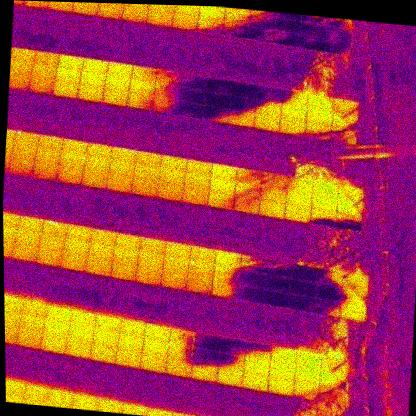Diode: (41, 220, 68, 239)
Hotspot: (7, 156, 35, 176), (56, 165, 84, 185), (163, 256, 190, 275), (59, 151, 87, 169), (189, 260, 215, 279), (62, 137, 89, 155), (13, 130, 40, 147), (37, 134, 64, 150), (111, 147, 138, 163), (10, 60, 33, 77), (4, 296, 24, 315)
Normal: (294, 365, 322, 386), (105, 172, 134, 192), (132, 176, 158, 198), (158, 180, 184, 202), (17, 328, 44, 349), (32, 161, 60, 181), (81, 168, 109, 188), (216, 368, 244, 388), (242, 372, 270, 392), (190, 364, 219, 383), (148, 6, 174, 27), (173, 9, 199, 30), (272, 345, 298, 366), (296, 350, 322, 371), (66, 338, 92, 359), (92, 343, 118, 364), (285, 204, 312, 224), (136, 267, 163, 287), (144, 324, 171, 344), (243, 357, 270, 377), (269, 361, 296, 381), (307, 93, 335, 112), (101, 88, 129, 107), (110, 262, 138, 281), (41, 334, 69, 353), (86, 259, 112, 279), (120, 319, 146, 339), (254, 115, 281, 134), (279, 118, 306, 137), (286, 190, 313, 209), (139, 238, 166, 257), (215, 251, 242, 270), (36, 249, 63, 268), (186, 277, 213, 296), (143, 339, 170, 358), (268, 377, 295, 396), (27, 78, 55, 96), (160, 272, 188, 290), (13, 244, 38, 264), (122, 4, 148, 23), (182, 187, 208, 206), (66, 225, 92, 244), (115, 233, 141, 252), (341, 303, 367, 322), (46, 307, 72, 326), (71, 311, 97, 330), (44, 319, 70, 338), (141, 355, 167, 374), (77, 85, 104, 103), (186, 159, 213, 177), (312, 181, 339, 199), (259, 202, 286, 220), (90, 229, 117, 247), (61, 254, 88, 272), (68, 324, 95, 342), (82, 58, 109, 76), (52, 82, 80, 99), (280, 105, 308, 122), (305, 109, 333, 126), (311, 196, 339, 213), (116, 349, 141, 368), (24, 385, 49, 404), (136, 151, 162, 169), (165, 240, 191, 258), (15, 230, 41, 248), (72, 393, 98, 411), (30, 63, 57, 80), (104, 76, 131, 93), (160, 155, 187, 172), (11, 145, 38, 162), (35, 147, 62, 164), (134, 164, 161, 181), (159, 168, 186, 185), (210, 179, 237, 196), (190, 246, 217, 263), (39, 235, 66, 252), (137, 253, 164, 270), (93, 330, 120, 347), (166, 361, 193, 378), (106, 62, 133, 79), (131, 65, 158, 82), (19, 216, 43, 235), (113, 248, 138, 266), (96, 316, 121, 334), (48, 390, 73, 408), (54, 69, 82, 85), (19, 315, 47, 331), (98, 3, 124, 20), (211, 164, 237, 181), (86, 155, 112, 172), (184, 174, 210, 191), (89, 245, 115, 262), (23, 302, 49, 319), (80, 72, 107, 88), (86, 142, 113, 158), (118, 336, 145, 352), (33, 52, 60, 68), (58, 55, 85, 71), (65, 240, 90, 257), (129, 80, 156, 95), (72, 2, 99, 16), (109, 160, 136, 174), (10, 48, 35, 63), (6, 379, 25, 397), (9, 74, 29, 91), (47, 1, 74, 12), (5, 311, 21, 327), (5, 325, 19, 343), (25, 1, 50, 6)
Shadow: (330, 125, 358, 146), (213, 265, 241, 286), (212, 279, 240, 300), (244, 342, 273, 361), (127, 91, 154, 111), (208, 190, 235, 210), (240, 254, 267, 274), (342, 272, 369, 292), (264, 274, 291, 294), (238, 283, 265, 303), (220, 336, 247, 356), (286, 176, 314, 195), (290, 264, 318, 283), (238, 269, 266, 288), (320, 371, 348, 390), (176, 102, 205, 120), (313, 298, 342, 316), (198, 15, 224, 35), (260, 186, 287, 205), (234, 195, 261, 214), (249, 25, 276, 44), (265, 259, 292, 278), (316, 268, 343, 287), (289, 294, 316, 313), (169, 328, 196, 347), (195, 333, 222, 352), (321, 355, 348, 374), (168, 344, 195, 363), (338, 185, 366, 203), (337, 200, 365, 218), (310, 210, 338, 228), (336, 213, 364, 231), (299, 34, 327, 52), (263, 289, 291, 307), (224, 19, 250, 38), (193, 349, 219, 368), (220, 352, 246, 371), (319, 386, 345, 405), (250, 11, 277, 29), (282, 91, 309, 109), (230, 96, 257, 114), (275, 15, 302, 33), (228, 111, 255, 129), (274, 30, 301, 48), (290, 279, 317, 297), (341, 288, 368, 306), (332, 98, 360, 115), (202, 106, 230, 123), (315, 284, 343, 301), (154, 83, 180, 101), (236, 168, 262, 186), (261, 172, 287, 190), (236, 182, 262, 200), (231, 81, 257, 99), (256, 87, 283, 104), (179, 88, 206, 105), (255, 101, 282, 118), (332, 112, 359, 129), (153, 97, 180, 114), (305, 122, 332, 139), (300, 20, 327, 37), (324, 39, 351, 56), (293, 382, 320, 399), (206, 78, 233, 95), (204, 94, 232, 110), (326, 24, 352, 41), (181, 74, 207, 91), (156, 70, 182, 86)
